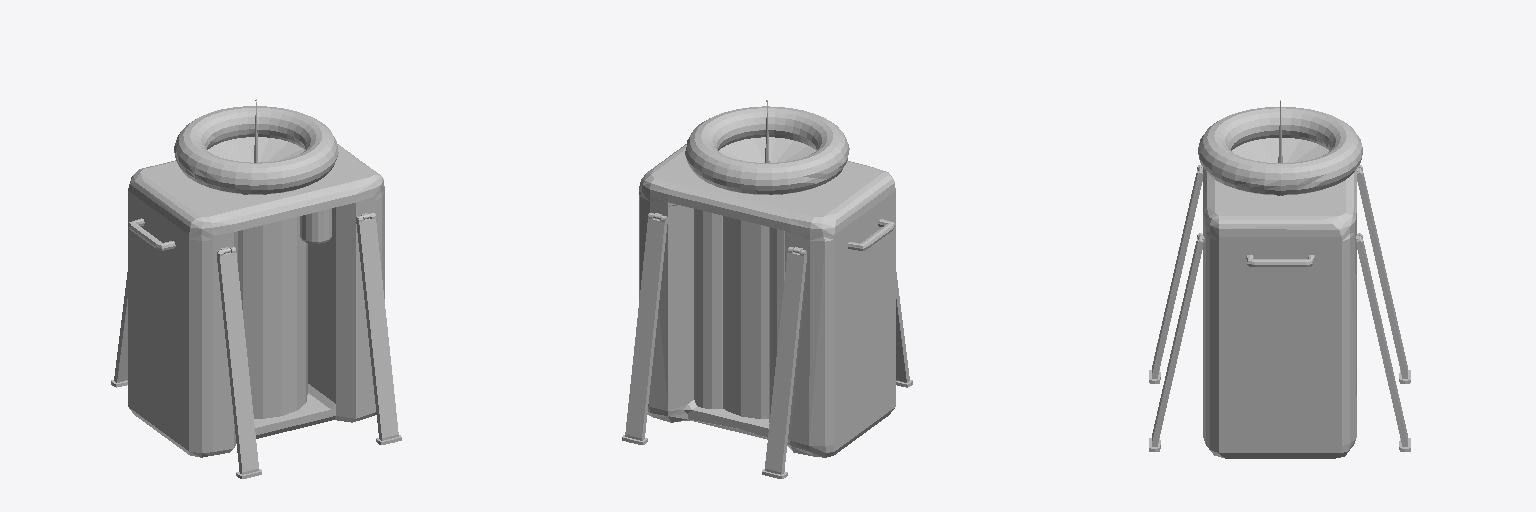
File: emp.obj
3 views of the same model, side by side, from view 1: azimuth 30°, elevation 25°; view 2: azimuth 150°, elevation 25°; view 3: azimuth 270°, elevation 25° (orthographic).
Parts seen in each view (by area): view 1: Cube, Cylinder, Cylinder.002, Cylinder.001_Cylinder.003; view 2: Cube, Cylinder.001_Cylinder.003, Cylinder.002, Cylinder; view 3: Cube, Cylinder, Cylinder.001_Cylinder.003, Cube.001.
Boxes of the visible parts, x1,y1,x2,y2 form: Cube: [128, 99, 384, 457]; Cylinder: [217, 213, 401, 478]; Cylinder.002: [300, 208, 331, 243]; Cylinder.001_Cylinder.003: [111, 272, 127, 387]; Cube: [639, 100, 895, 457]; Cylinder.001_Cylinder.003: [622, 213, 806, 478]; Cylinder.002: [694, 209, 784, 422]; Cylinder: [896, 272, 912, 387]; Cube: [1198, 100, 1362, 458]; Cylinder: [1149, 165, 1204, 451]; Cylinder.001_Cylinder.003: [1356, 165, 1410, 451]; Cube.001: [1246, 255, 1314, 266].
Size of the model in its own units: 9.24 by 12.22 by 9.3.